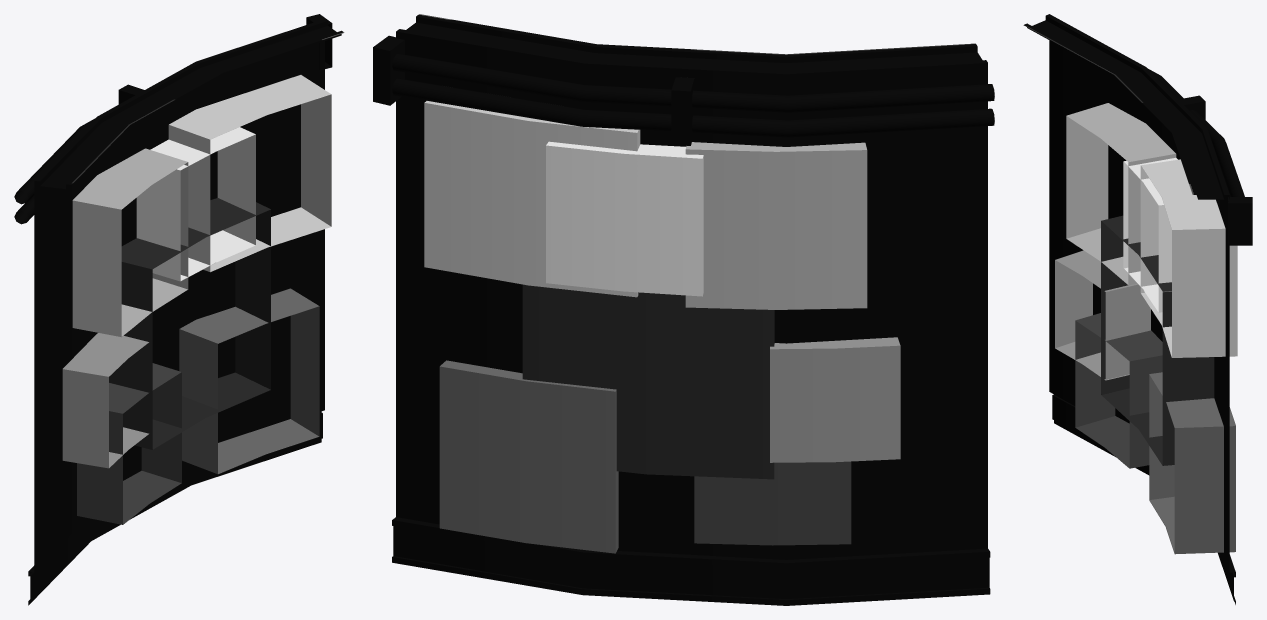
Rendered from OutwardWall45D.fbx.
3 views of the same model, side by side, from view 1: azimuth 30°, elevation 25°; view 2: azimuth 150°, elevation 25°; view 3: azimuth 270°, elevation 25° (orthographic). The views are drawn at different scales.
Parts seen in each view (by area): view 1: HalfCornerInwardPipes; view 2: HalfCornerInwardPipes; view 3: HalfCornerInwardPipes.
Boxes of the visible parts, bbox=[...] form: HalfCornerInwardPipes: bbox=[14, 14, 344, 605]; HalfCornerInwardPipes: bbox=[373, 14, 994, 605]; HalfCornerInwardPipes: bbox=[1023, 14, 1252, 604].
Bounding box in the file's own units: 388 × 392 × 198.
